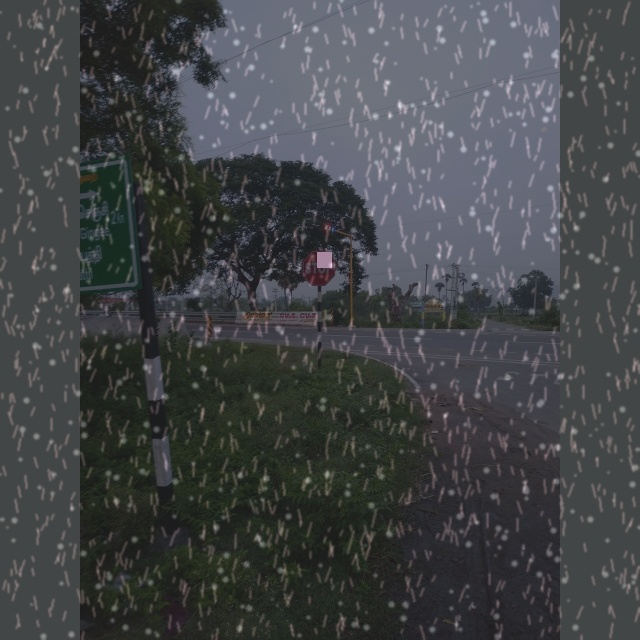Stop: (300, 249, 337, 287)
